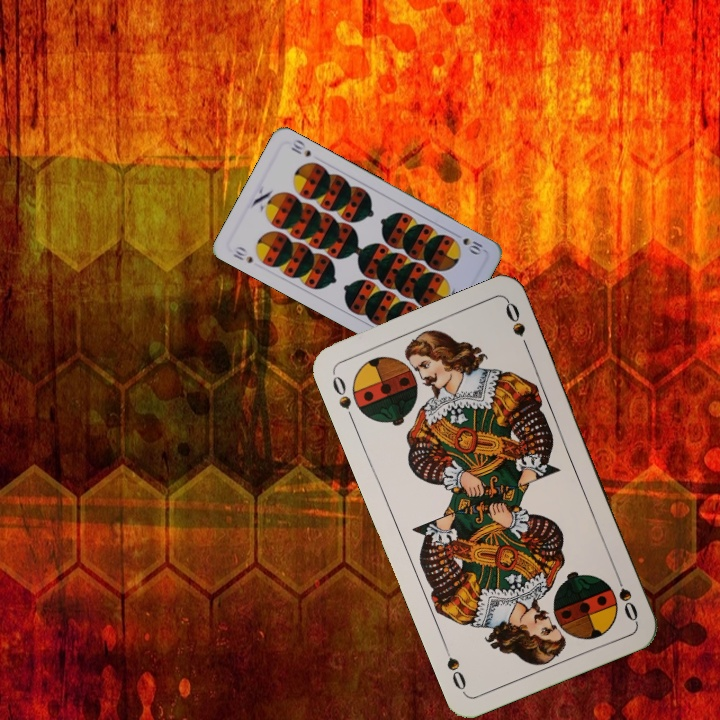S10: (450, 230, 487, 257), (229, 242, 255, 266)
SO: (611, 567, 641, 624), (328, 369, 358, 426)
